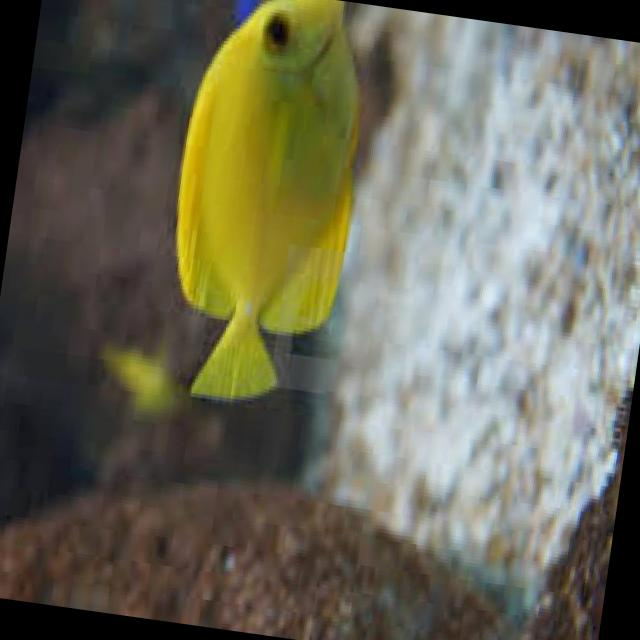YellowTang: (146, 0, 382, 421)
